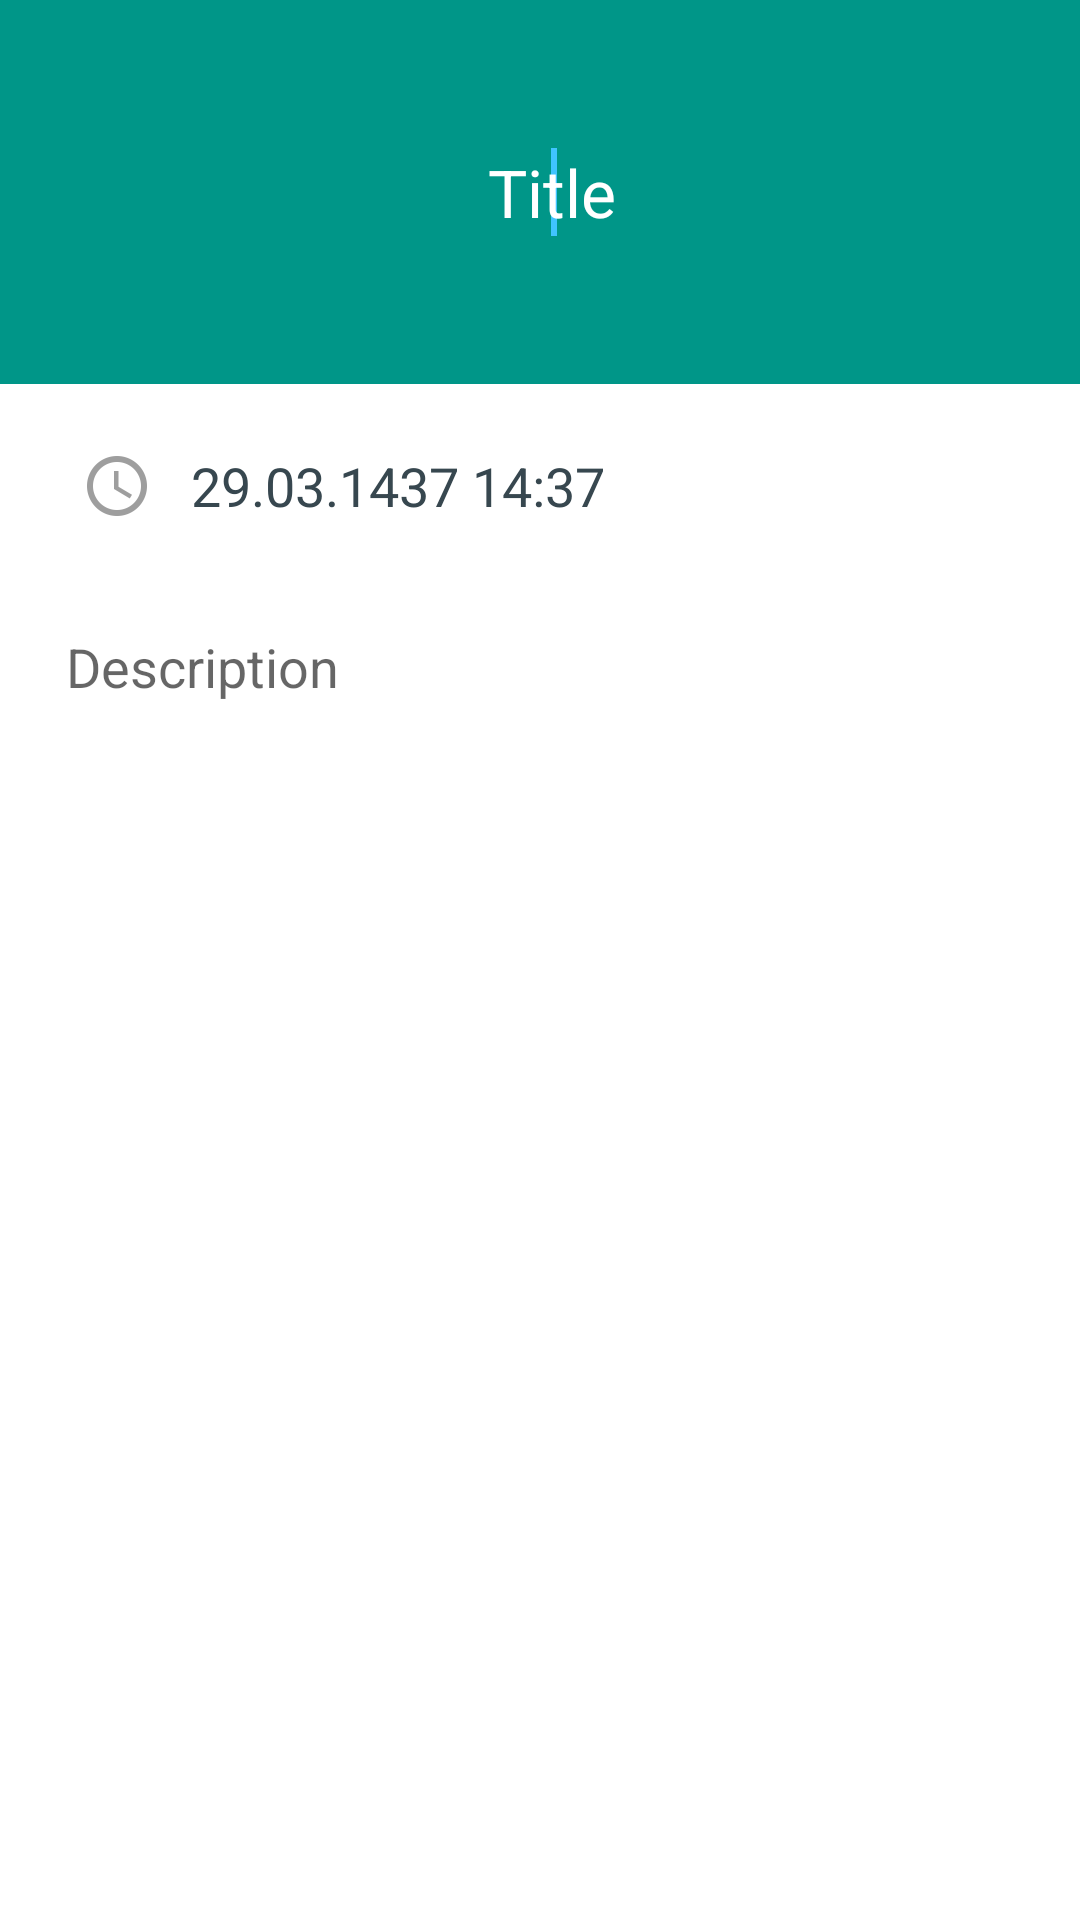

Icons on this 1080x1920 Android screen, each with its box as (x1, y1, x2, y2):
query builder: (87, 456, 147, 516)
